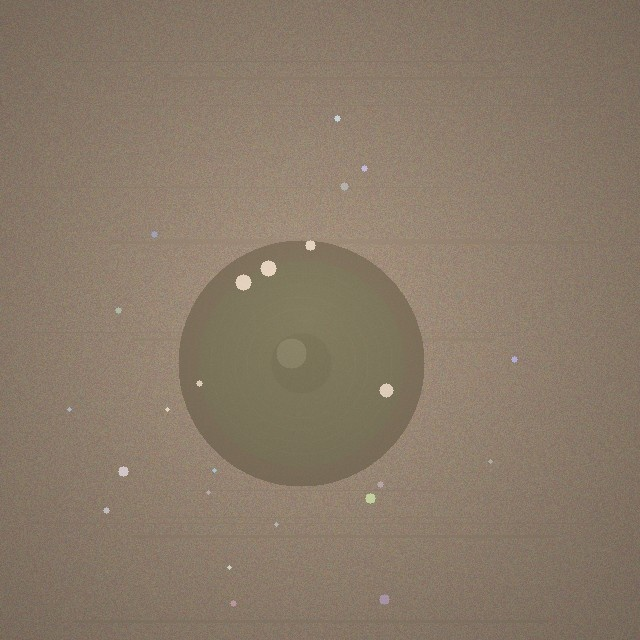overburn: (178, 240, 424, 486)
